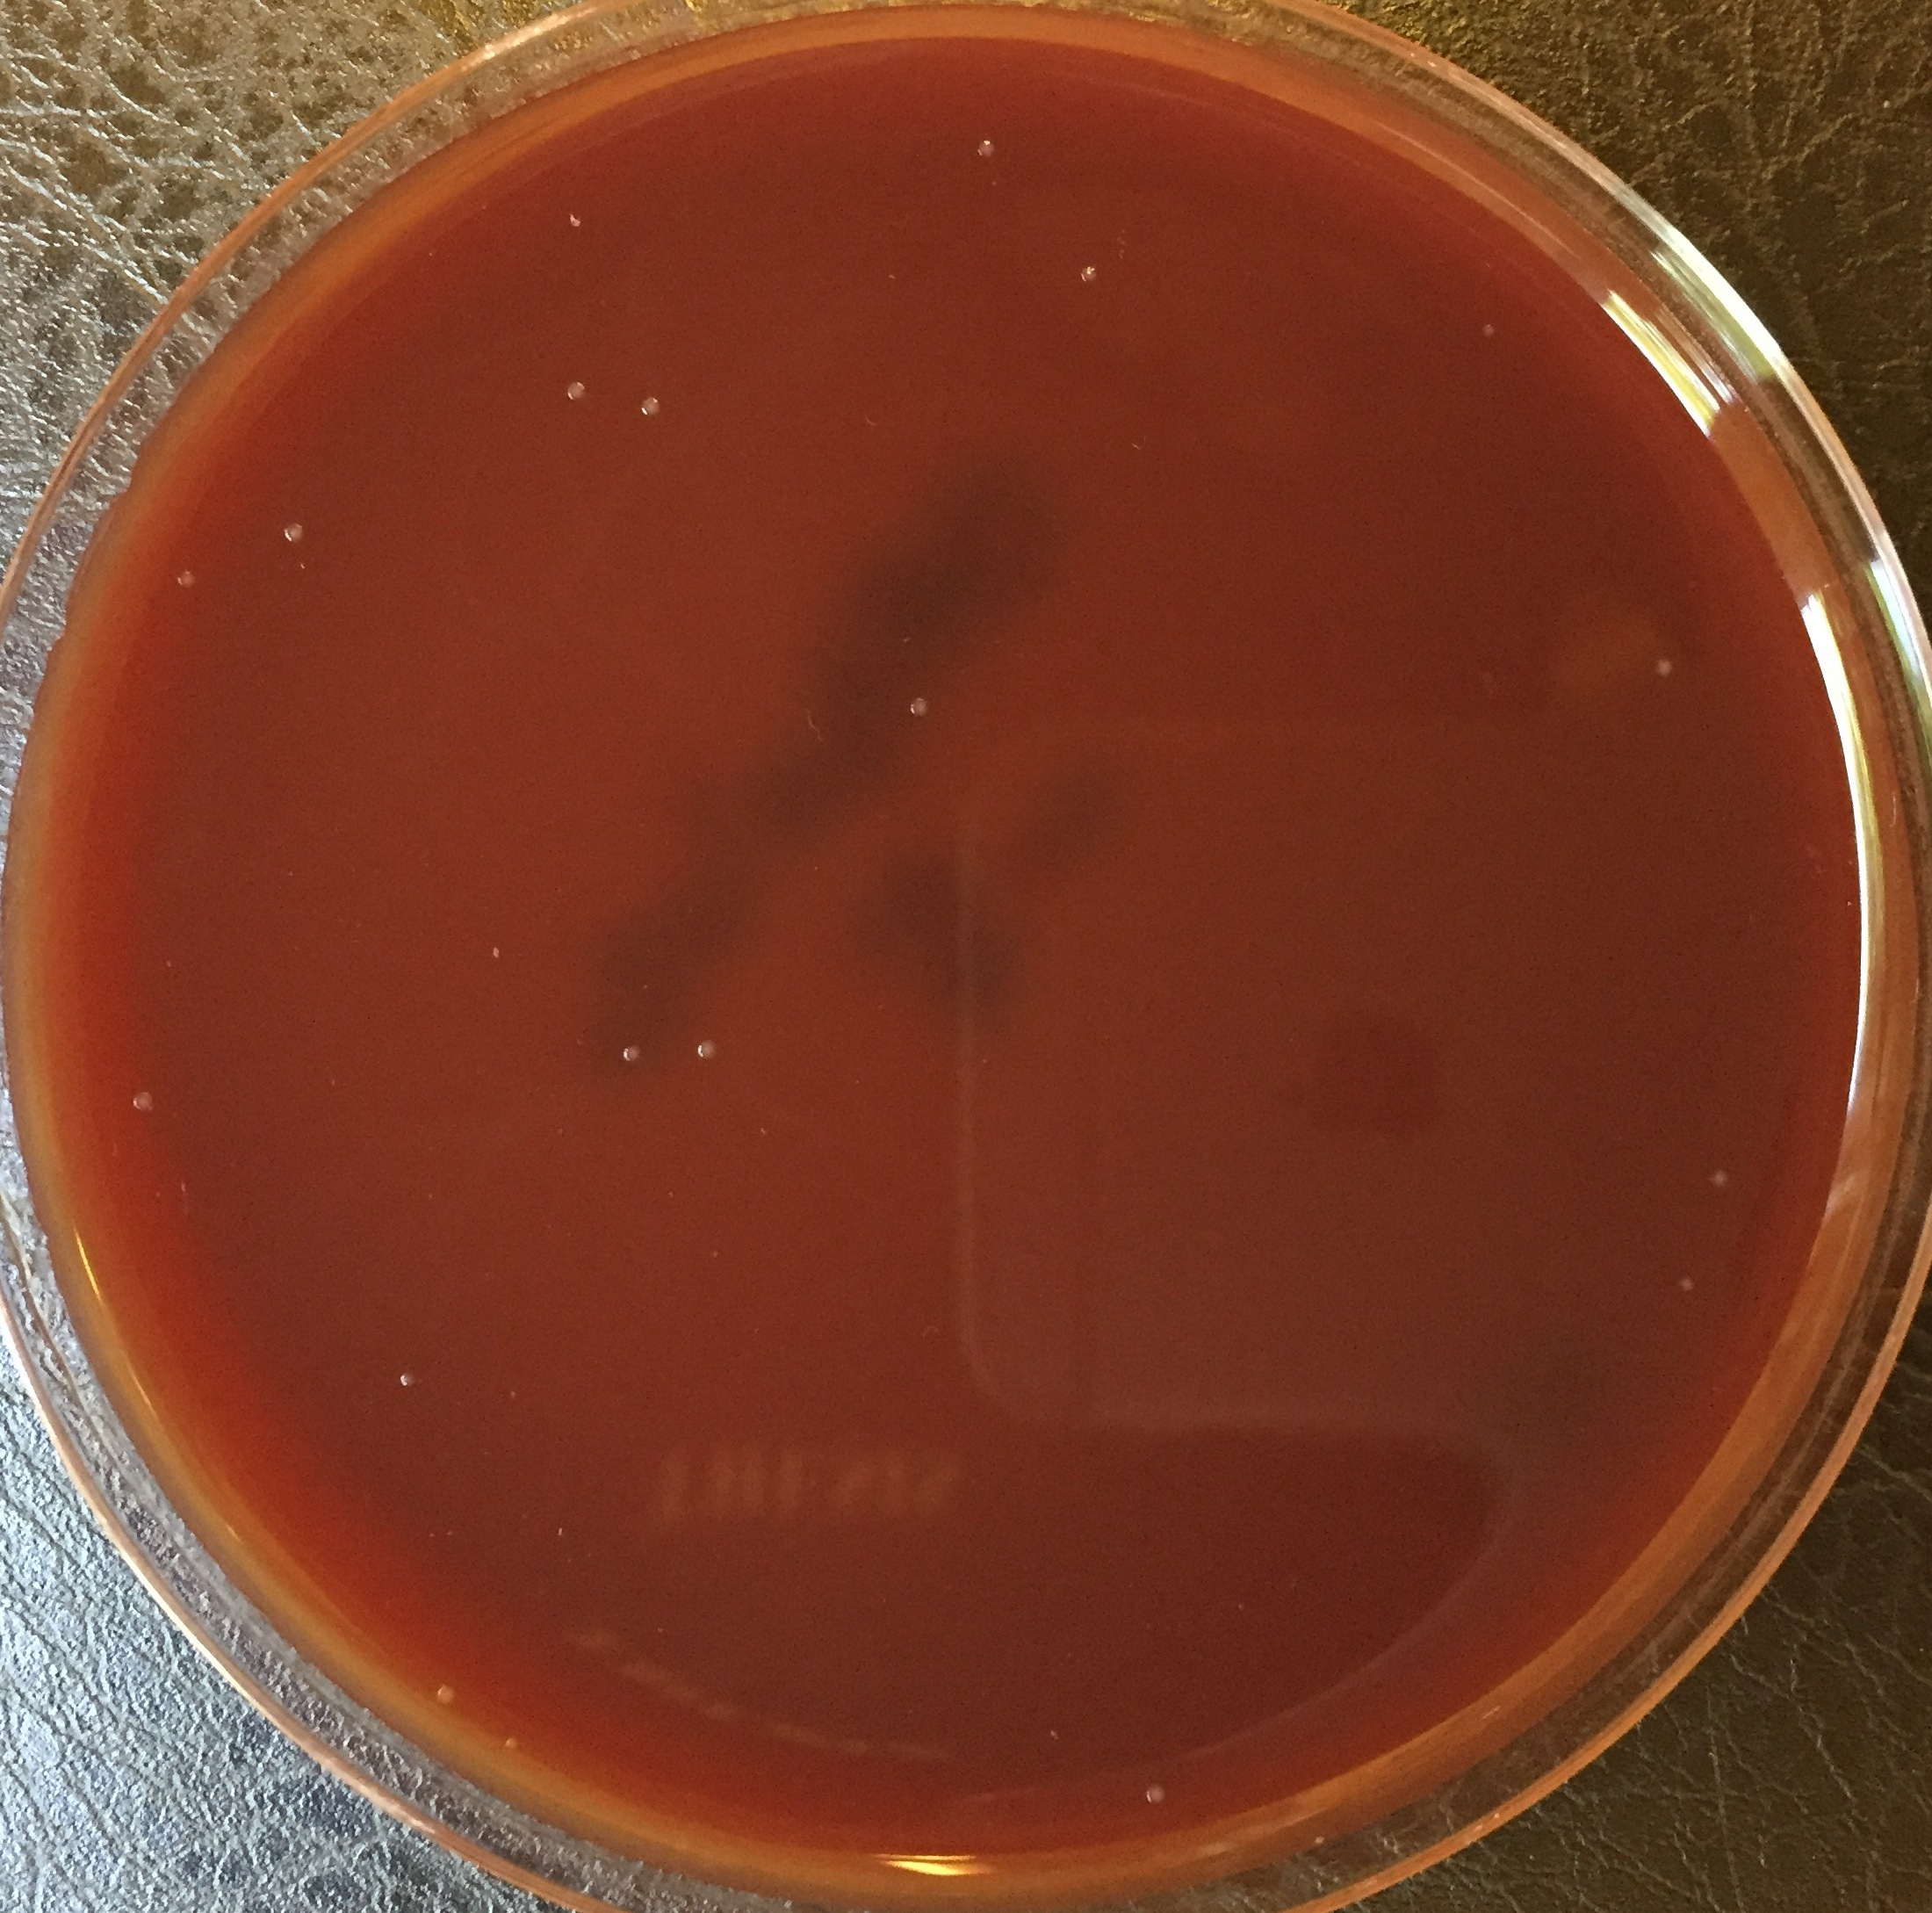sp10: (1648, 657, 1680, 683), (634, 394, 666, 420), (433, 1684, 462, 1710), (128, 1090, 158, 1116), (974, 133, 1000, 161), (694, 1037, 720, 1062), (1142, 1782, 1170, 1804), (1077, 263, 1103, 286), (280, 520, 307, 543), (173, 568, 200, 590), (618, 1042, 645, 1065), (1678, 1268, 1699, 1296), (1704, 1168, 1729, 1191), (907, 695, 932, 718), (501, 1736, 524, 1757), (1478, 321, 1498, 345), (564, 382, 589, 401), (398, 1372, 422, 1391)
